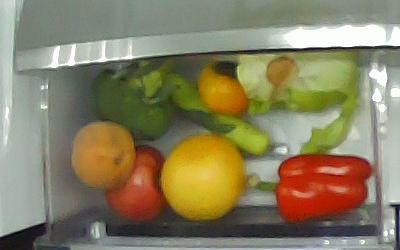apple: (104, 144, 168, 220)
broccoli: (92, 61, 176, 141)
cucumber: (168, 72, 271, 157)
grapefruit: (161, 135, 245, 220)
lettuce: (236, 47, 363, 117)
paprika: (246, 152, 373, 224)
peach: (70, 121, 135, 190)
persimmon: (197, 61, 249, 117)
